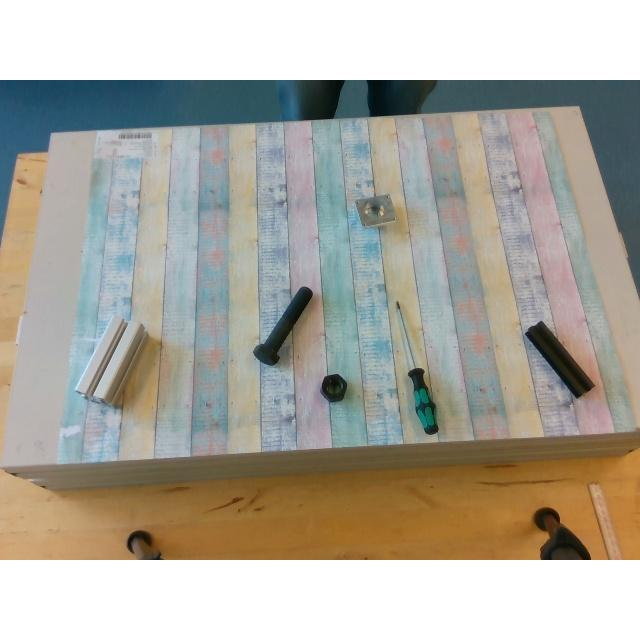F20_20_B: (524, 322, 592, 393)
M20: (322, 374, 346, 400)
M20_100: (252, 286, 312, 362)
S40_40_G: (74, 318, 146, 406)
Screwdriver: (392, 299, 440, 436)
